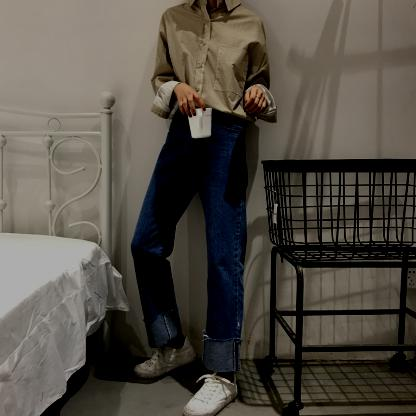dress: (131, 100, 257, 373), (147, 0, 277, 127)
